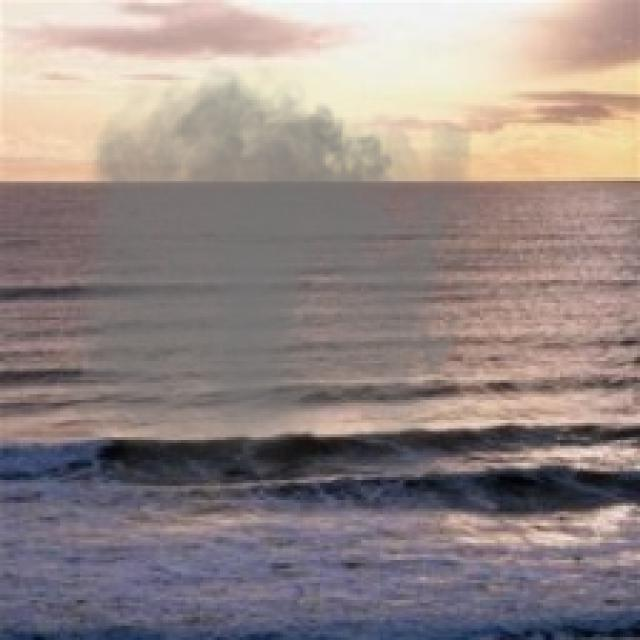smoke: (69, 54, 472, 472)
